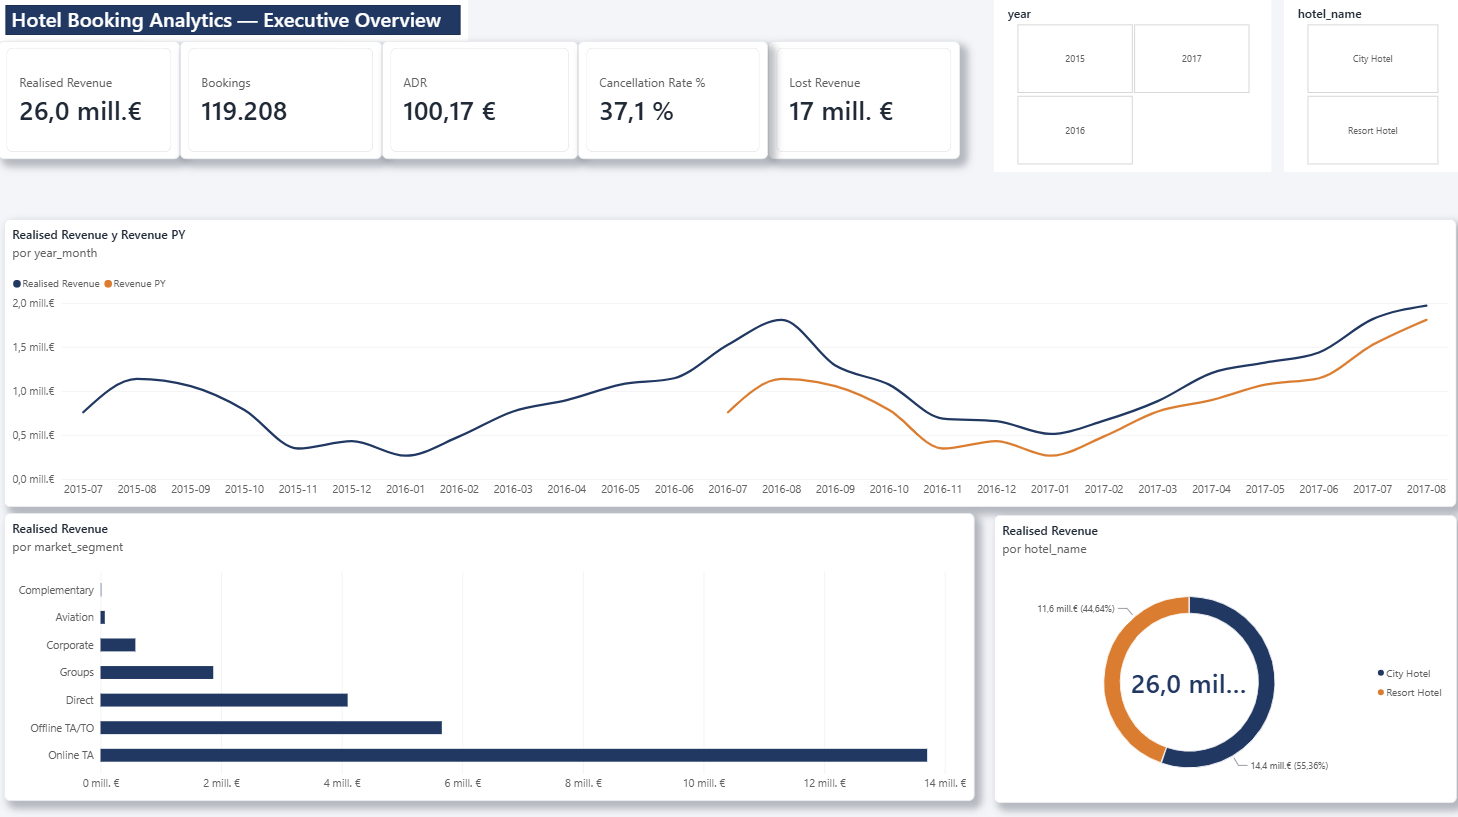

The page's visual inventory and layout, read from the dashboard file:
{"tool":"powerbi","page":{"name":"Executive Overview","canvas":[1920,1080],"ordinal":0},"visuals":[{"type":"shape","box":[0,0,618.4,55.3],"z":0},{"type":"textbox","box":[9.2,0,608.6,280.2],"z":1000},{"type":"slicer","fields":{"Values":["dim_hotel.hotel_name"]},"box":[1692.6,0,232,227.4],"z":2000},{"type":"slicer","fields":{"Values":["dim_date.year"]},"box":[1311.4,0,365.2,227.4],"z":3000},{"type":"cardVisual","fields":{"Data":["_Measures.Realised Revenue"]},"box":[0,55.3,239.5,155.3],"z":4000},{"type":"cardVisual","fields":{"Data":["_Measures.Bookings (label)"]},"box":[239.5,55.3,265.8,155.3],"z":5000},{"type":"cardVisual","fields":{"Data":["_Measures.Lost Revenue"]},"box":[1013.2,55.3,252.6,155.3],"z":6000},{"type":"cardVisual","fields":{"Data":["_Measures.ADR"]},"box":[505.3,55.3,257.9,155.3],"z":7000},{"type":"cardVisual","fields":{"Data":["_Measures.Cancellation Rate %"]},"box":[763.2,55.3,250,155.3],"z":8000},{"type":"lineChart","fields":{"Category":["dim_date.year_month"],"Y":["_Measures.Realised Revenue","_Measures.Revenue PY"]},"box":[9.2,289.4,1910.8,378.9],"z":9000},{"type":"clusteredBarChart","fields":{"Category":["dim_channel.market_segment"],"Y":["_Measures.Realised Revenue"]},"box":[9.2,677.5,1276.9,378.9],"z":10000},{"type":"donutChart","fields":{"Category":["dim_hotel.hotel_name"],"Y":["_Measures.Realised Revenue"]},"box":[1311.4,679.8,609,379],"z":11000}]}

Visuals, with their boxes in screenshot pixels (x1, y1, x2, y2), scaled from the page's 1920x1080 canvas onto the 1458x817 screenshot:
shape: locate(0, 0, 470, 42)
textbox: locate(7, 0, 469, 212)
slicer - dim_hotel.hotel_name: locate(1285, 0, 1457, 172)
slicer - dim_date.year: locate(996, 0, 1273, 172)
cardVisual - _Measures.Realised Revenue: locate(0, 42, 182, 159)
cardVisual - _Measures.Bookings (label): locate(182, 42, 384, 159)
cardVisual - _Measures.Lost Revenue: locate(769, 42, 961, 159)
cardVisual - _Measures.ADR: locate(384, 42, 580, 159)
cardVisual - _Measures.Cancellation Rate %: locate(580, 42, 769, 159)
lineChart - dim_date.year_month x _Measures.Realised Revenue: locate(7, 219, 1457, 506)
clusteredBarChart - dim_channel.market_segment x _Measures.Realised Revenue: locate(7, 513, 977, 799)
donutChart - dim_hotel.hotel_name x _Measures.Realised Revenue: locate(996, 514, 1457, 801)
